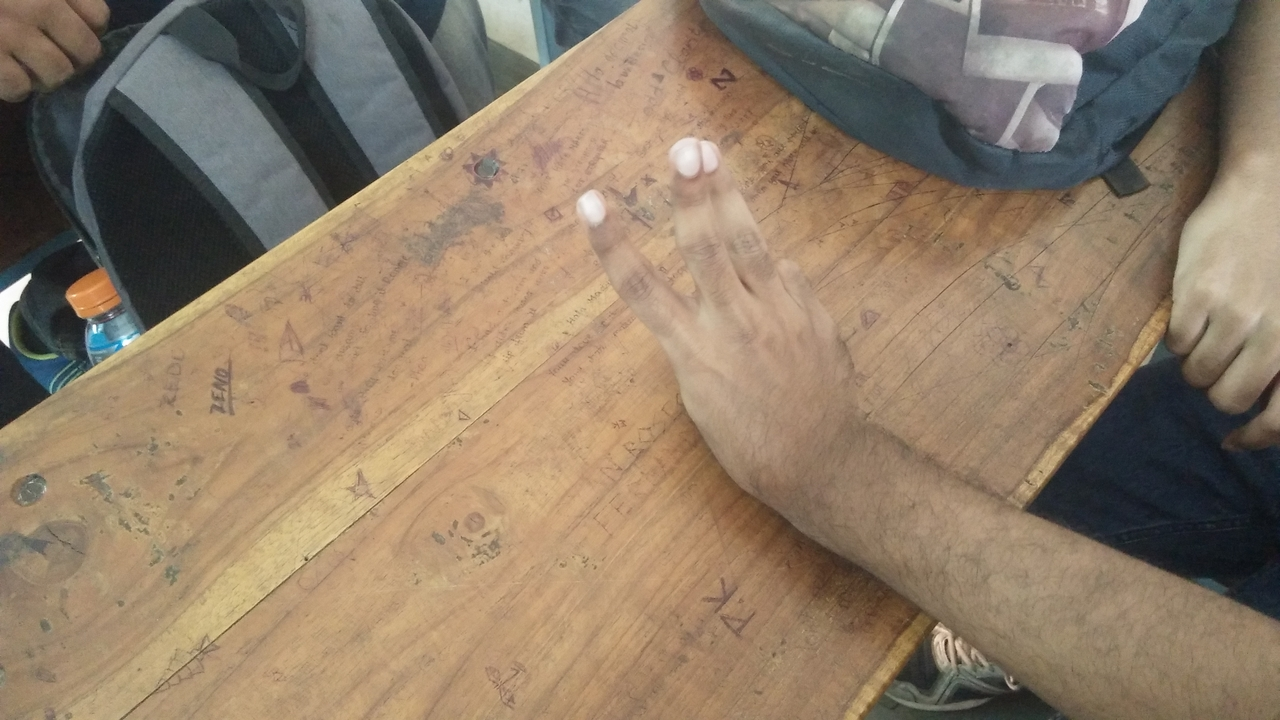fingertip: (562, 180, 620, 238), (671, 135, 702, 192), (695, 135, 737, 175)
